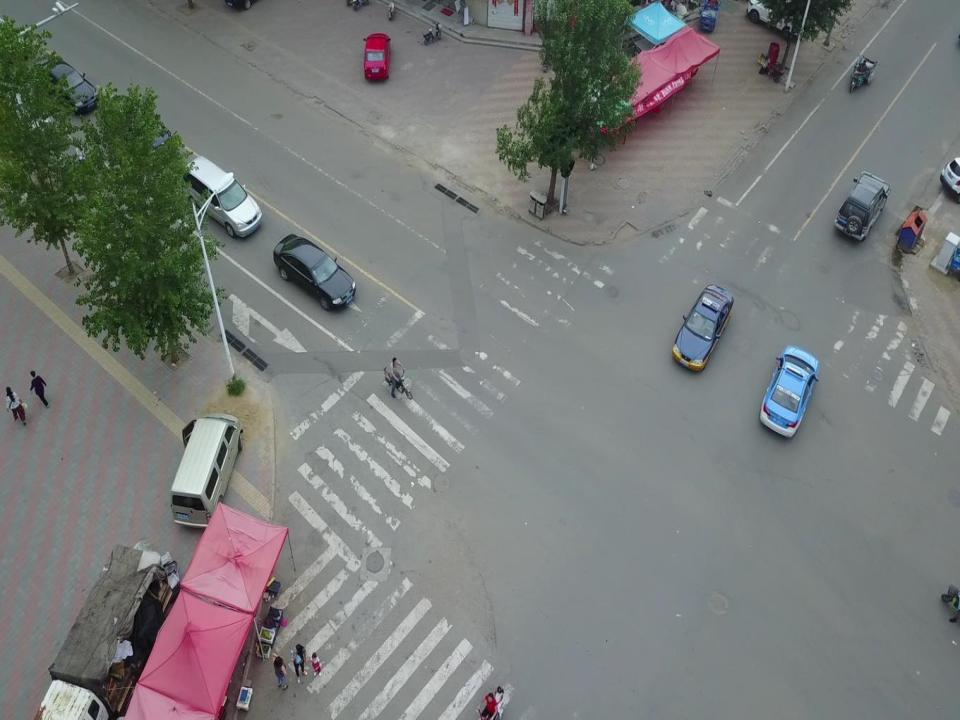car: (176, 153, 266, 238), (273, 226, 357, 315), (759, 332, 821, 442), (669, 276, 736, 376), (831, 159, 894, 249), (102, 86, 173, 158), (45, 60, 98, 112), (746, 0, 812, 38), (363, 31, 392, 87)
truck: (35, 548, 179, 720)
van: (169, 406, 247, 532)
